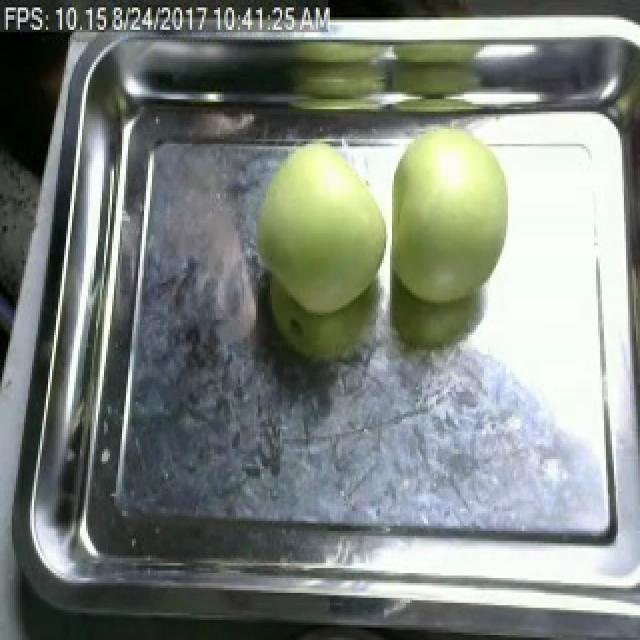50-_ripeness: (388, 121, 532, 330), (242, 126, 389, 318)
